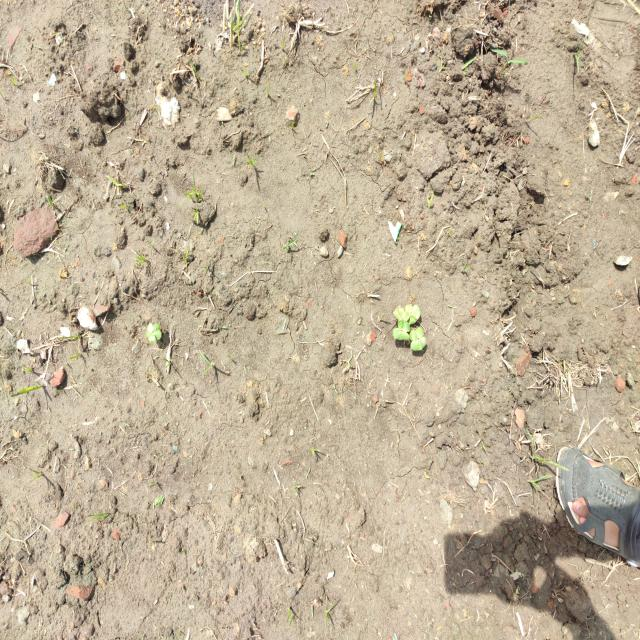seedling_s1: (407, 305, 421, 325), (392, 328, 410, 341), (410, 337, 427, 350), (409, 327, 424, 341), (146, 323, 156, 343), (402, 304, 413, 321), (397, 318, 410, 332), (153, 323, 162, 340), (394, 307, 403, 320), (397, 306, 404, 316)
